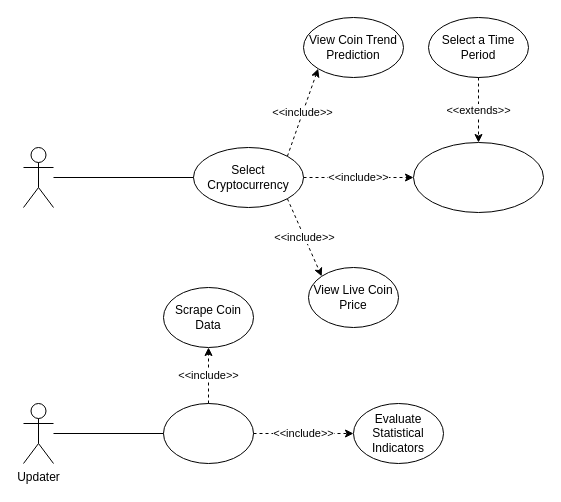
Some shapes in this 561 by 502 pixel diagram are drawn without their labels. The shapes that lost their labels are listed below. From the top down, each one's centre as x and y in pixels, then its label:
At (38,177): "User".
At (478,177): "View Historical Data Chart of the Coin".
At (208,433): "Update Cryptocurrency Data".
